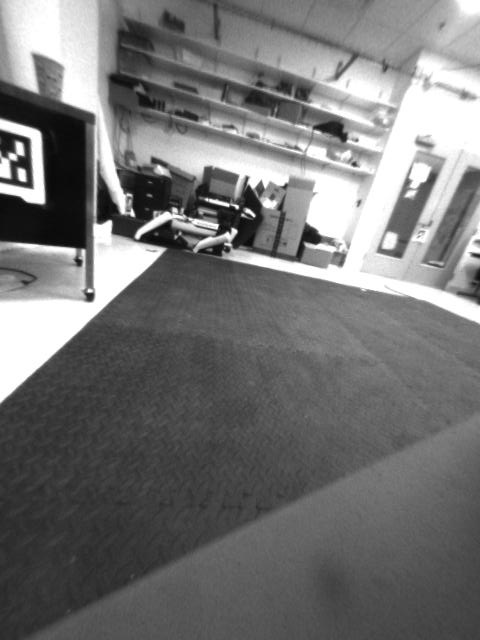coffee_cup: (30, 51, 66, 102)
